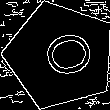O_W: (29, 28, 92, 84)
